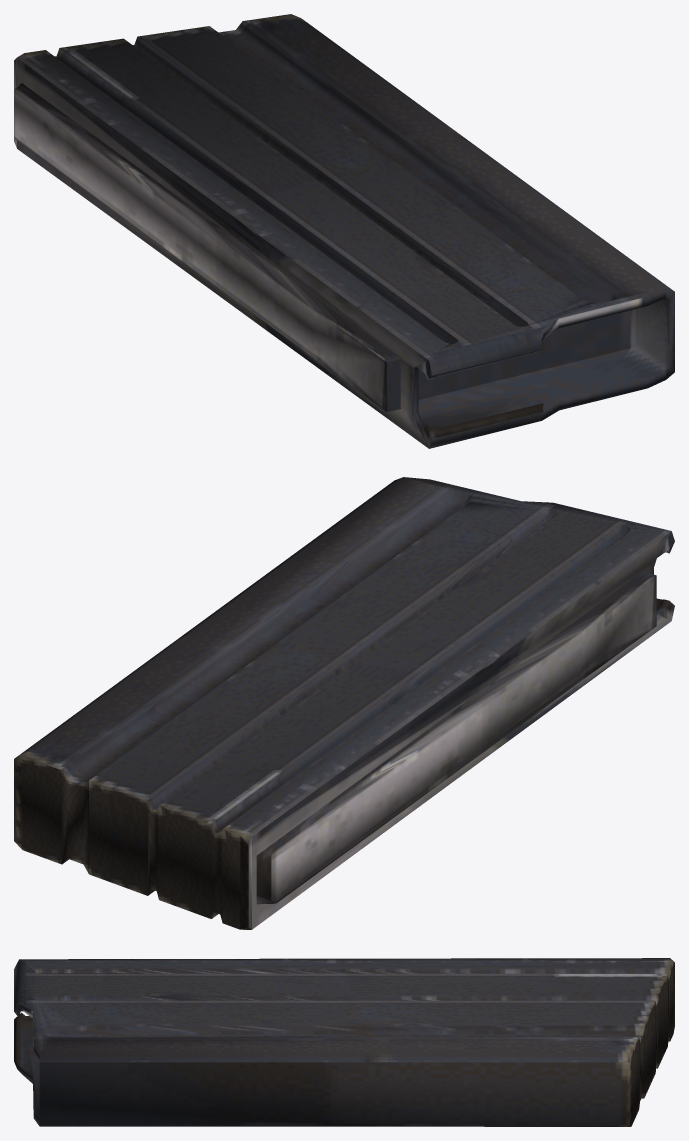
The model's file is Mag223ExtLg_Ground.fbx.
3 renders of one model, top to bottom at view 1: azimuth 30°, elevation 25°; view 2: azimuth 150°, elevation 25°; view 3: azimuth 270°, elevation 25°, orthographic. The views are drawn at different scales.
Visible parts, largest first — view 1: Mag223ExtLg; view 2: Mag223ExtLg; view 3: Mag223ExtLg.
Part boxes in pixels (x1,y1,x2,y2): Mag223ExtLg: [14, 14, 674, 448]; Mag223ExtLg: [14, 477, 674, 929]; Mag223ExtLg: [14, 958, 674, 1126].
Size of the model in its own units: 0.0406 by 0.0131 by 0.1079.
